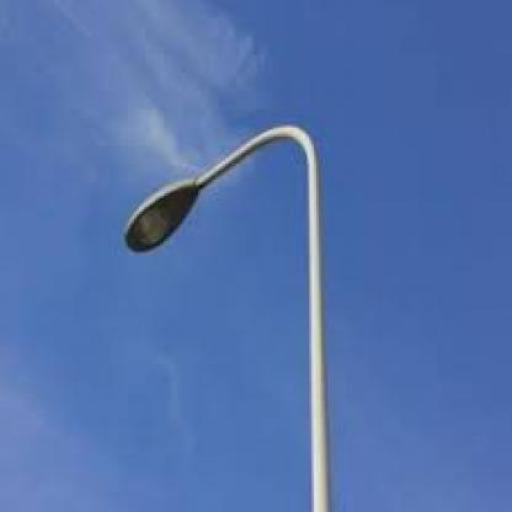street light: (123, 123, 337, 510)
